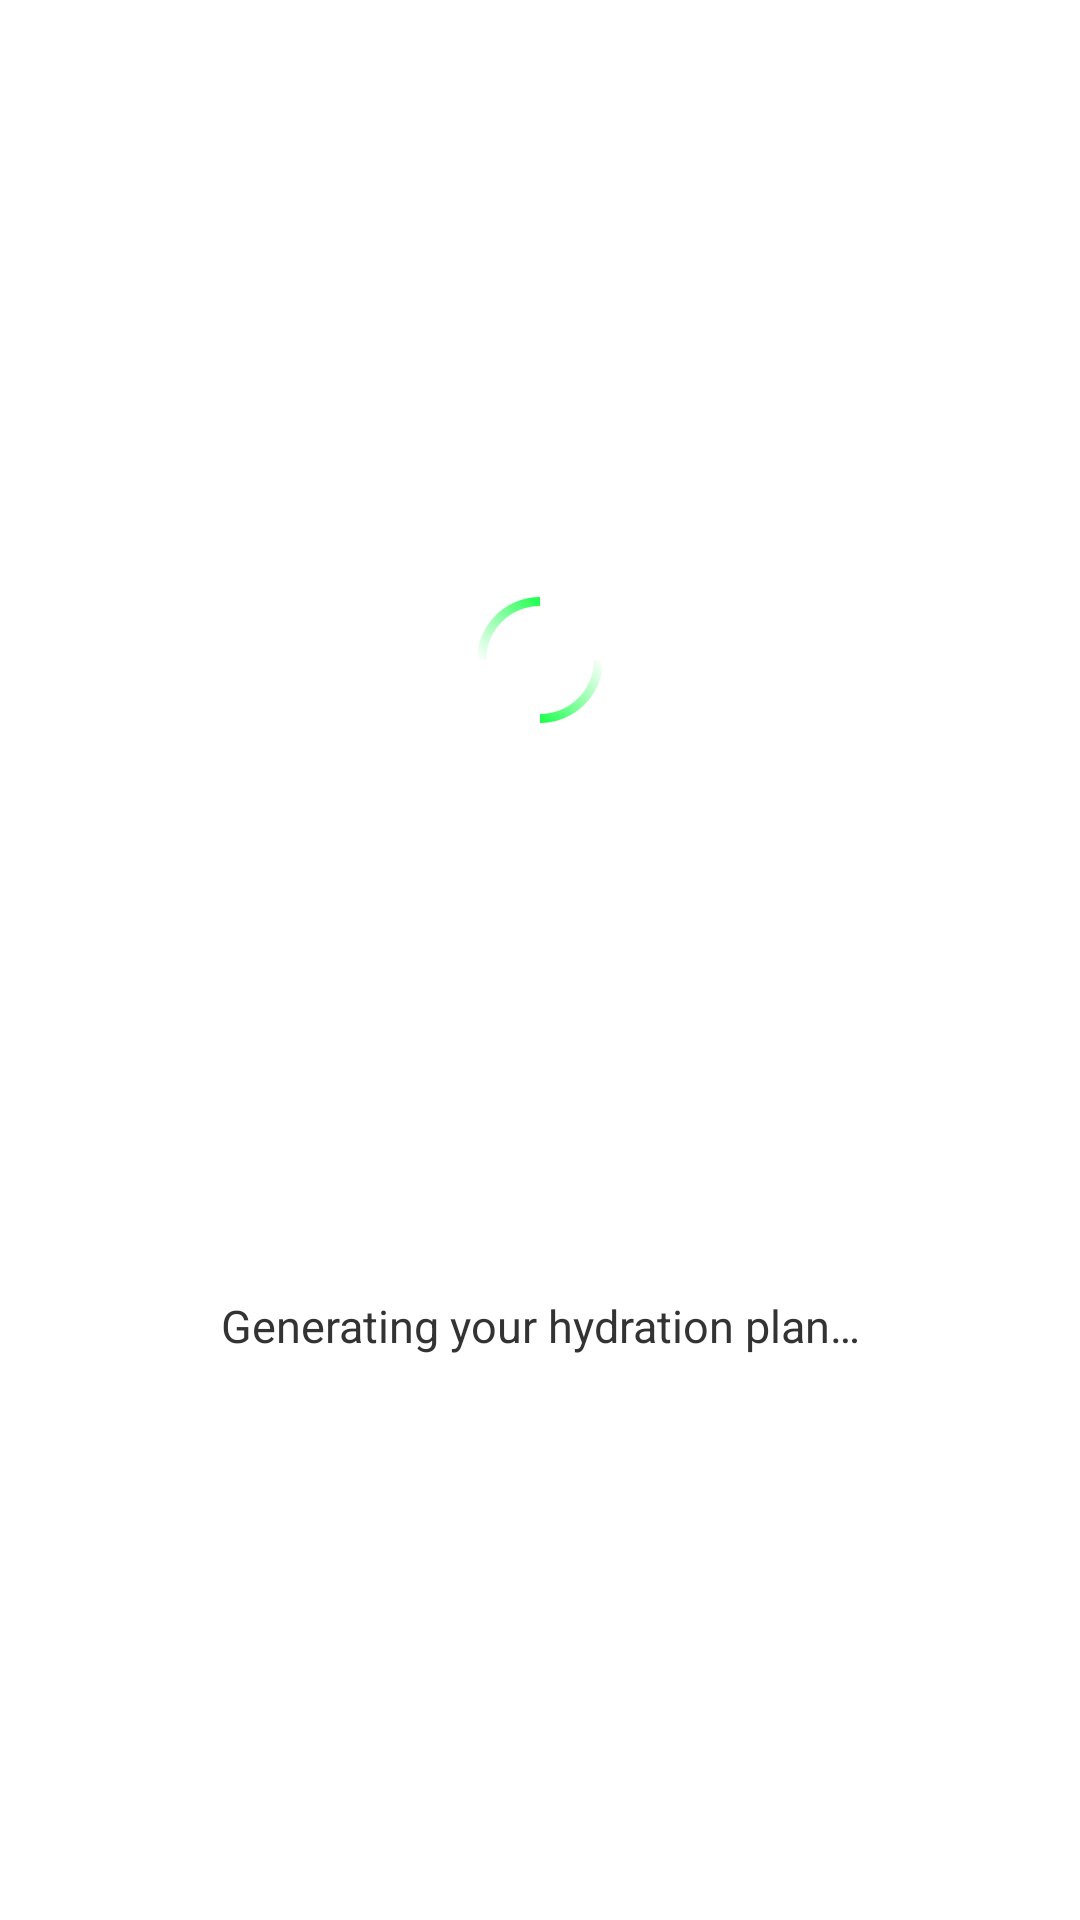

Icons on this 1080px×1920px Android screen, each with its box as detection(x1, y1, x2, y2):
loading: detection(479, 597, 601, 723)
